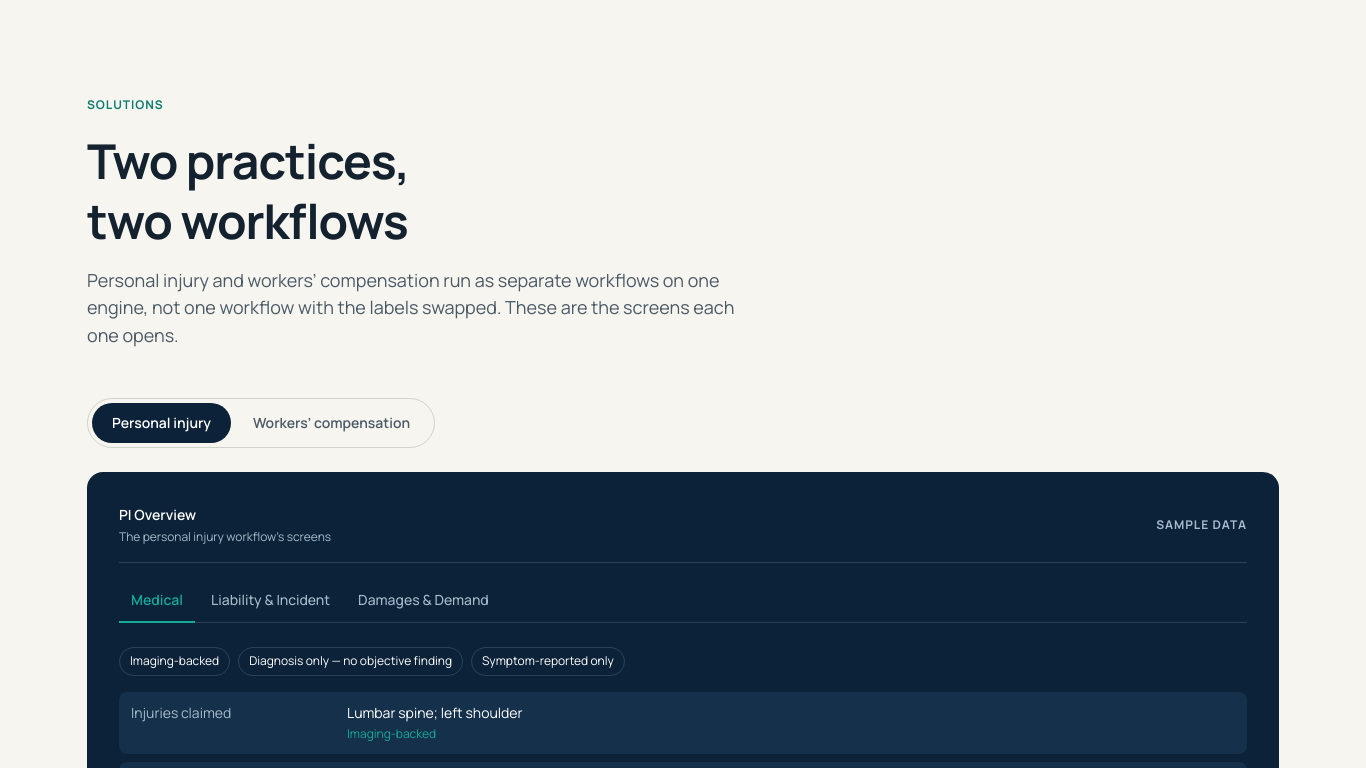
Test: Solutions › shows the wage-loss derivation on the Damages tab
Click the tab "Damages & Demand" at [423, 601], box [346, 579, 501, 623]
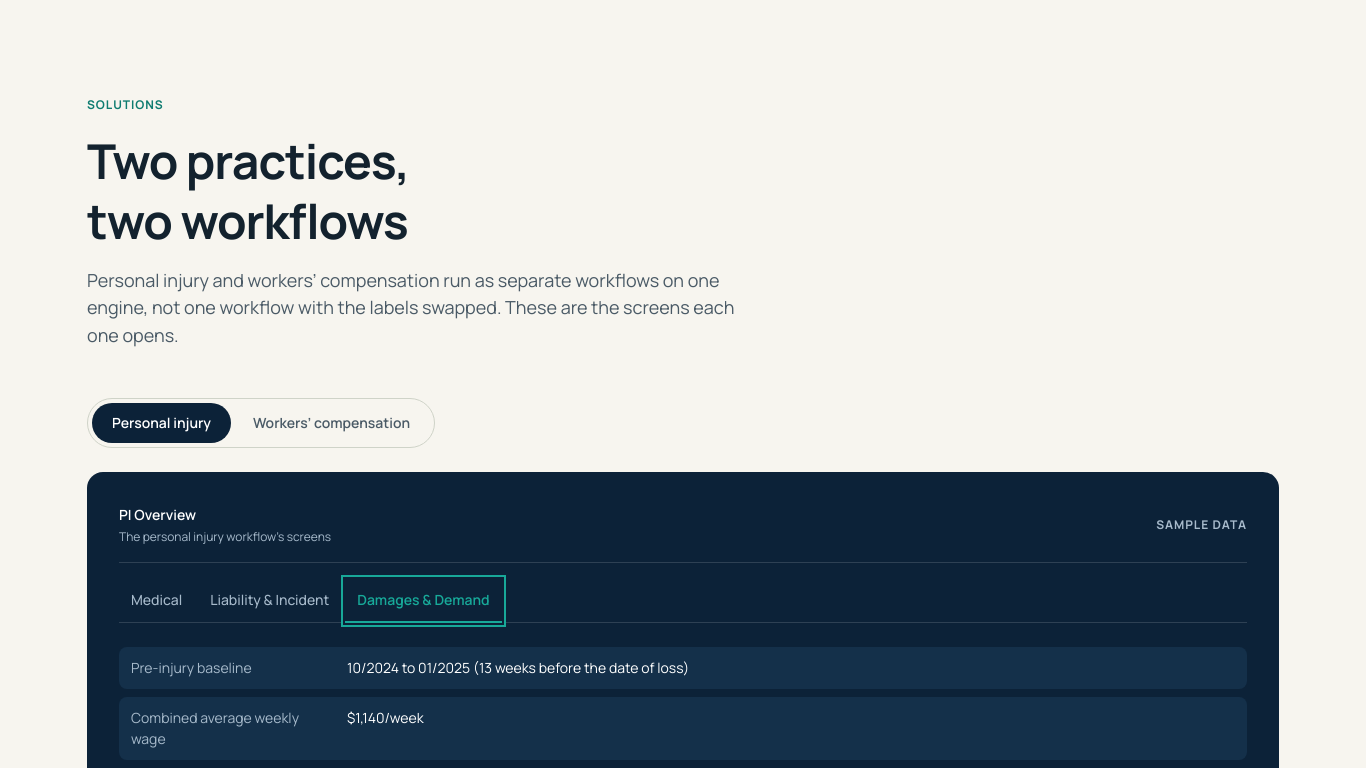
Expected: the text "Combined average weekly wage" is shown, [131, 708, 299, 748]
